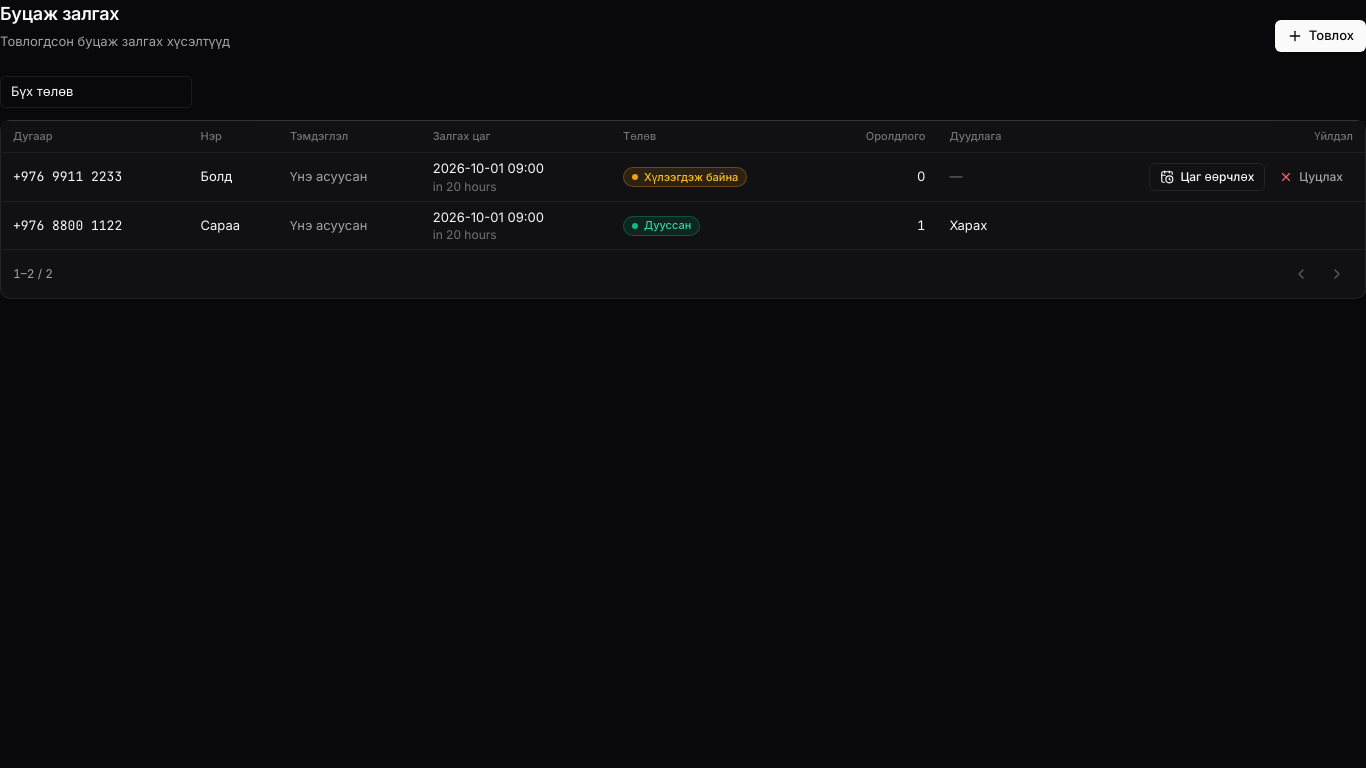
Test: CallbacksPage › rejects an invalid phone
expect the text "Болд" is shown: met, box [188, 152, 278, 201]
Click the button "Товлох".
click(1320, 36)  # box [1275, 20, 1365, 52]
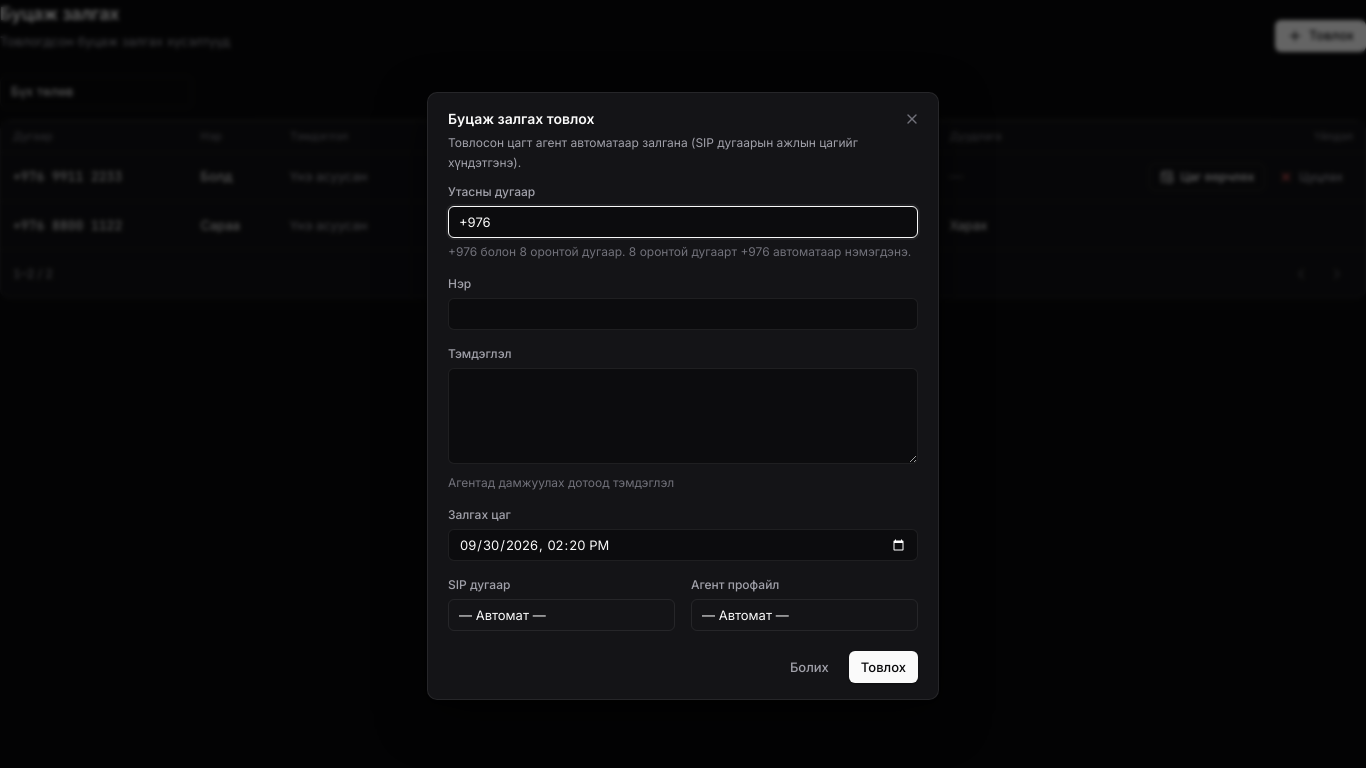
Replace the text in the field labelled "Утасны дугаар" with "12" at (683, 222), box [448, 206, 918, 238]
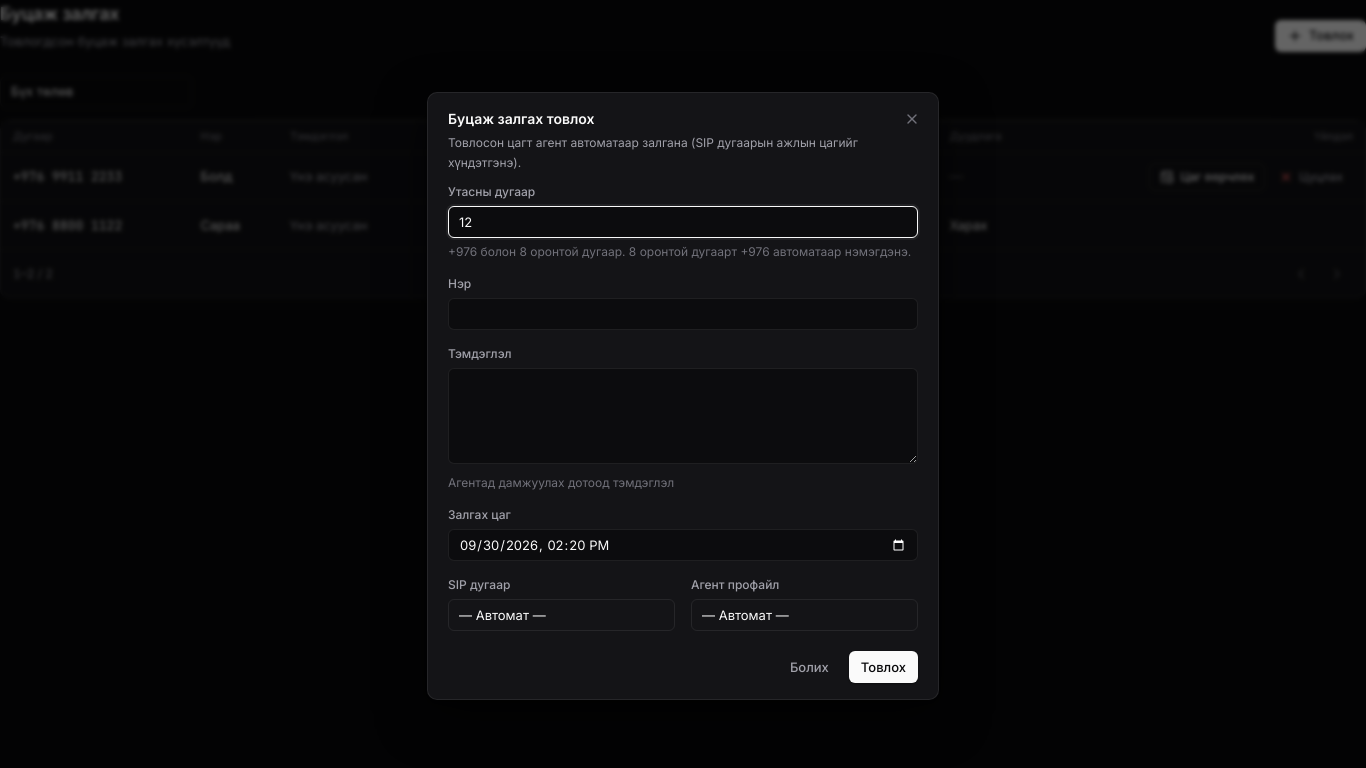
Click the button "Товлох".
click(883, 667)  # box [849, 651, 918, 683]
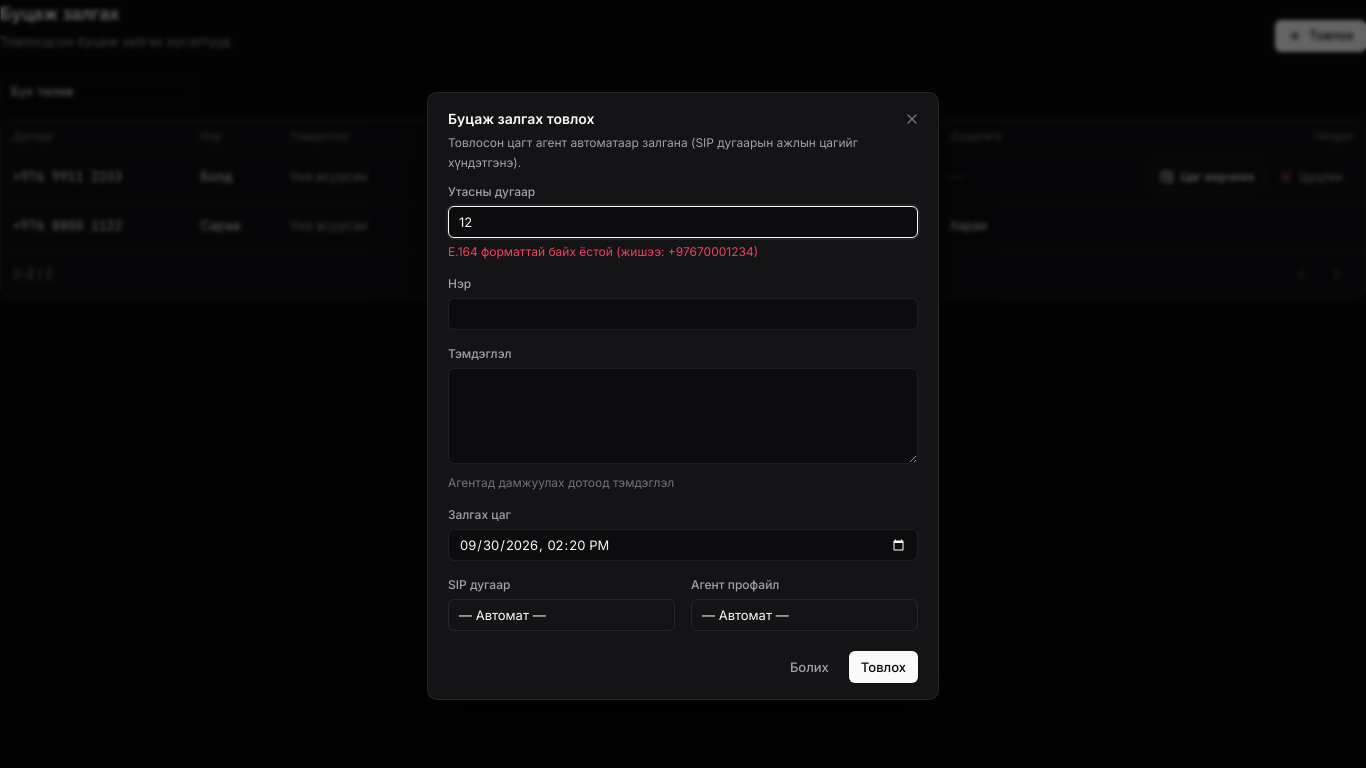
expect the text "E.164 форматтай байх ёстой (жишээ: +97670001234)" is shown: met, box [448, 244, 758, 259]
